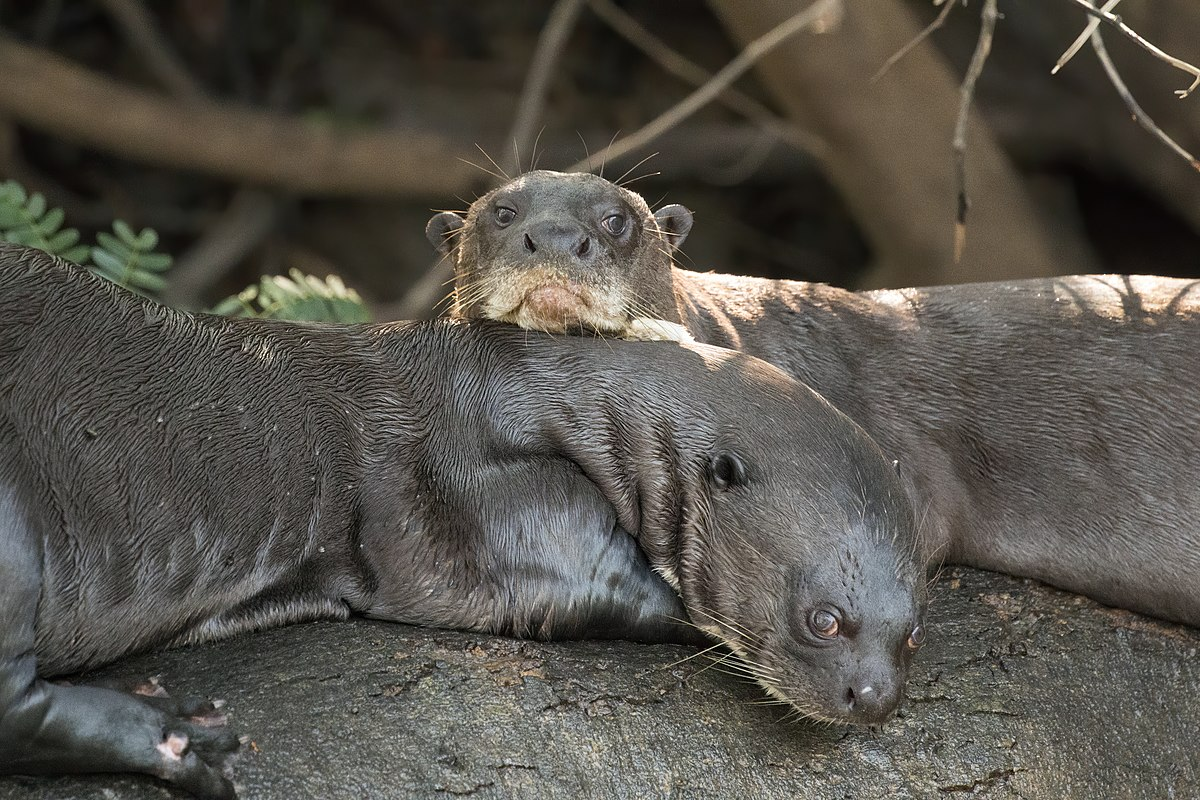otter: (3, 231, 929, 791), (421, 140, 1194, 373)
